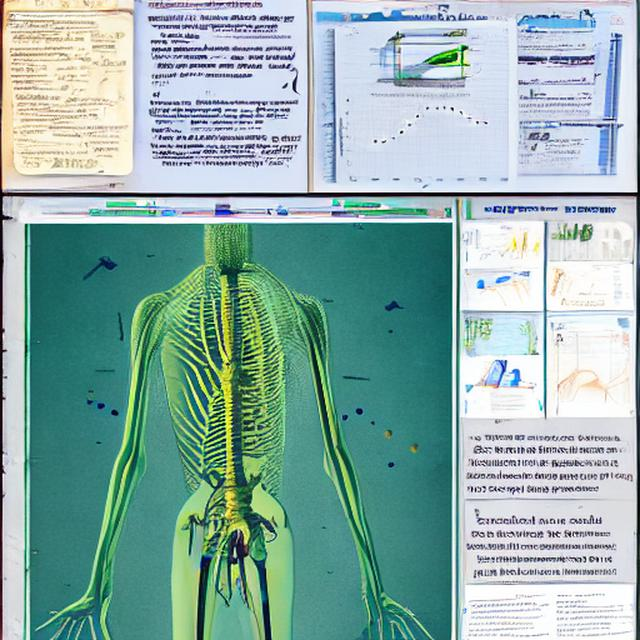Graph: (338, 89, 510, 189), (471, 224, 542, 267)
